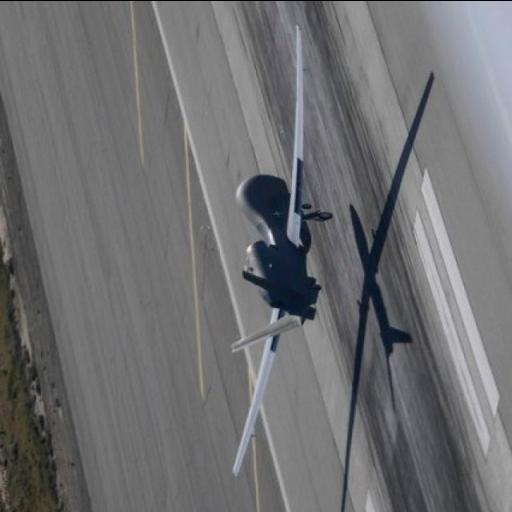uav: (214, 20, 367, 478)
